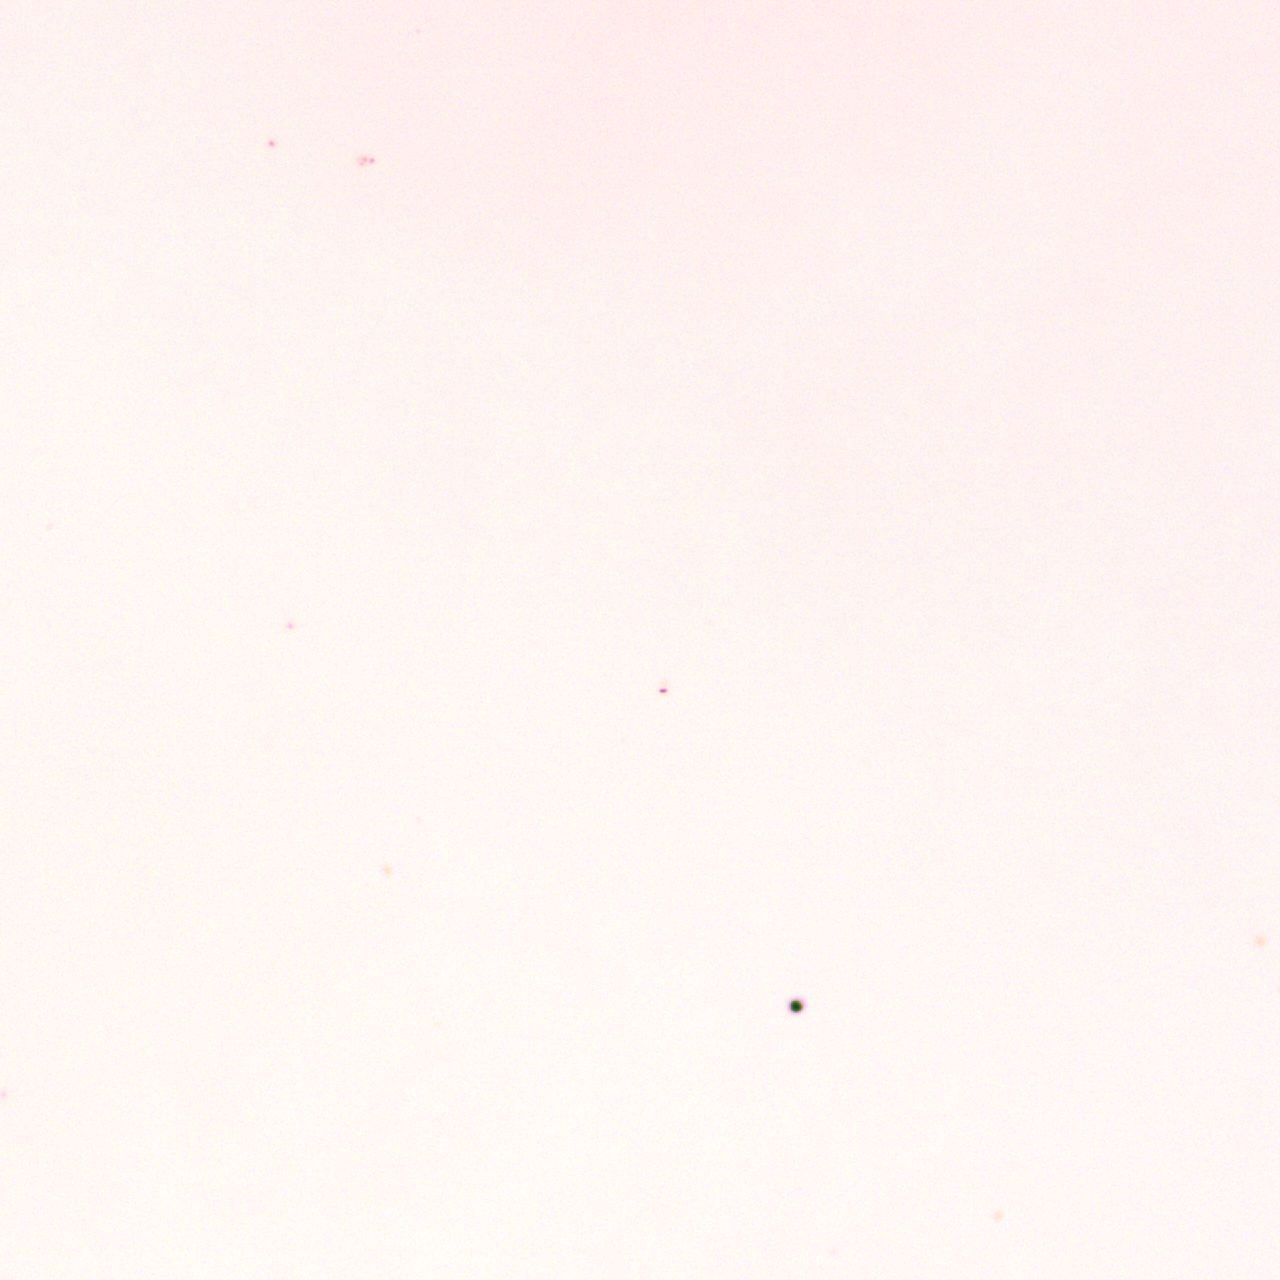dust: (785, 995, 808, 1015)
